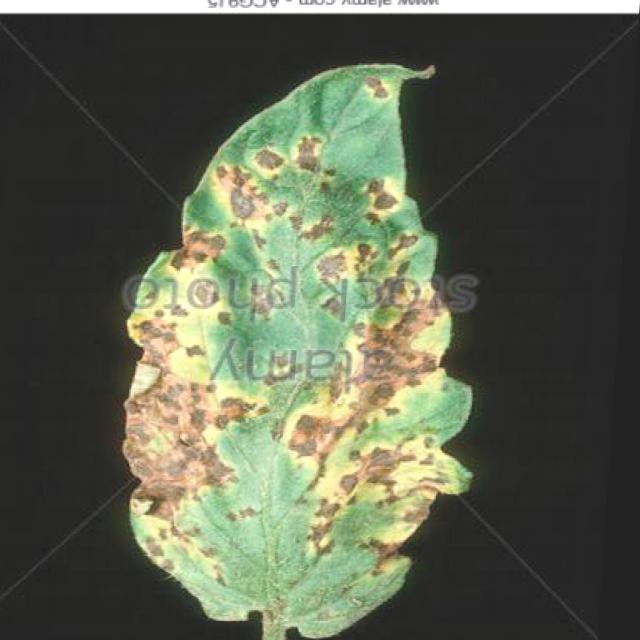Tomato Septoria spot leaf: (89, 56, 515, 638)
